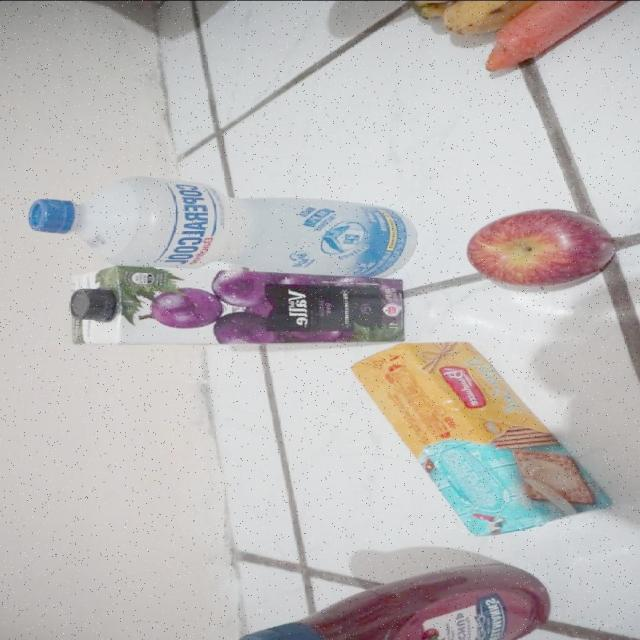AlcoholBottle: (28, 173, 412, 272)
Apple: (464, 205, 612, 288)
Carrot: (481, 0, 618, 72)
Cracker: (346, 340, 610, 538)
Ketchup: (228, 566, 559, 639)
